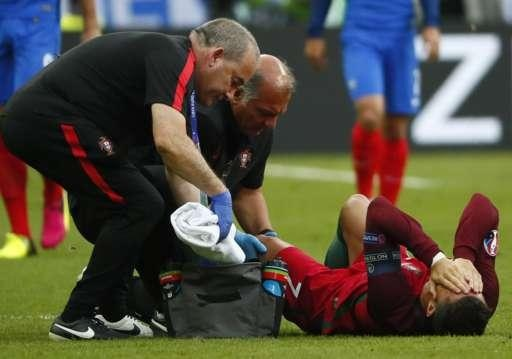falling: (234, 174, 509, 342)
